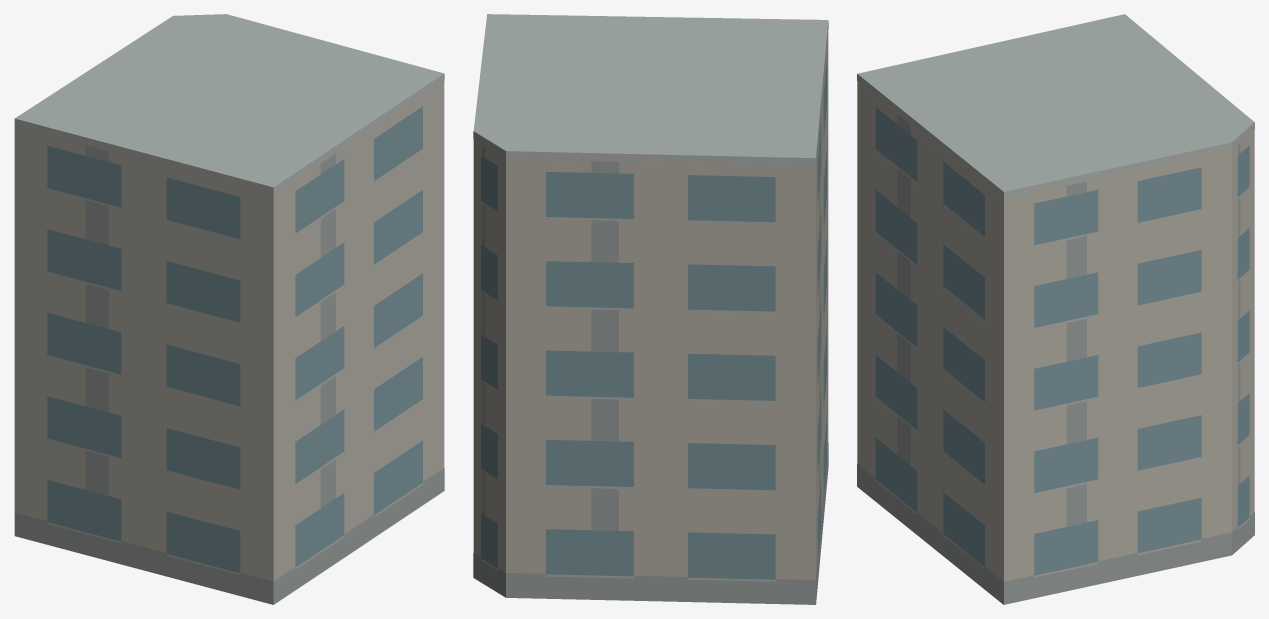
Rendered from survey-upis-32829079.glb.
3 renders of one model, left to right at view 1: azimuth 30°, elevation 25°; view 2: azimuth 150°, elevation 25°; view 3: azimuth 270°, elevation 25°, orthographic. The views are drawn at different scales.
Visible parts, largest first — view 1: survey-upis-32829079.tmp; view 2: survey-upis-32829079.tmp; view 3: survey-upis-32829079.tmp.
Part boxes in pixels (<box>): survey-upis-32829079.tmp: <box>14,14,444,604</box>; survey-upis-32829079.tmp: <box>473,14,828,604</box>; survey-upis-32829079.tmp: <box>857,14,1254,604</box>.
Size of the model in its own units: 12.2 by 13.2 by 11.52.
